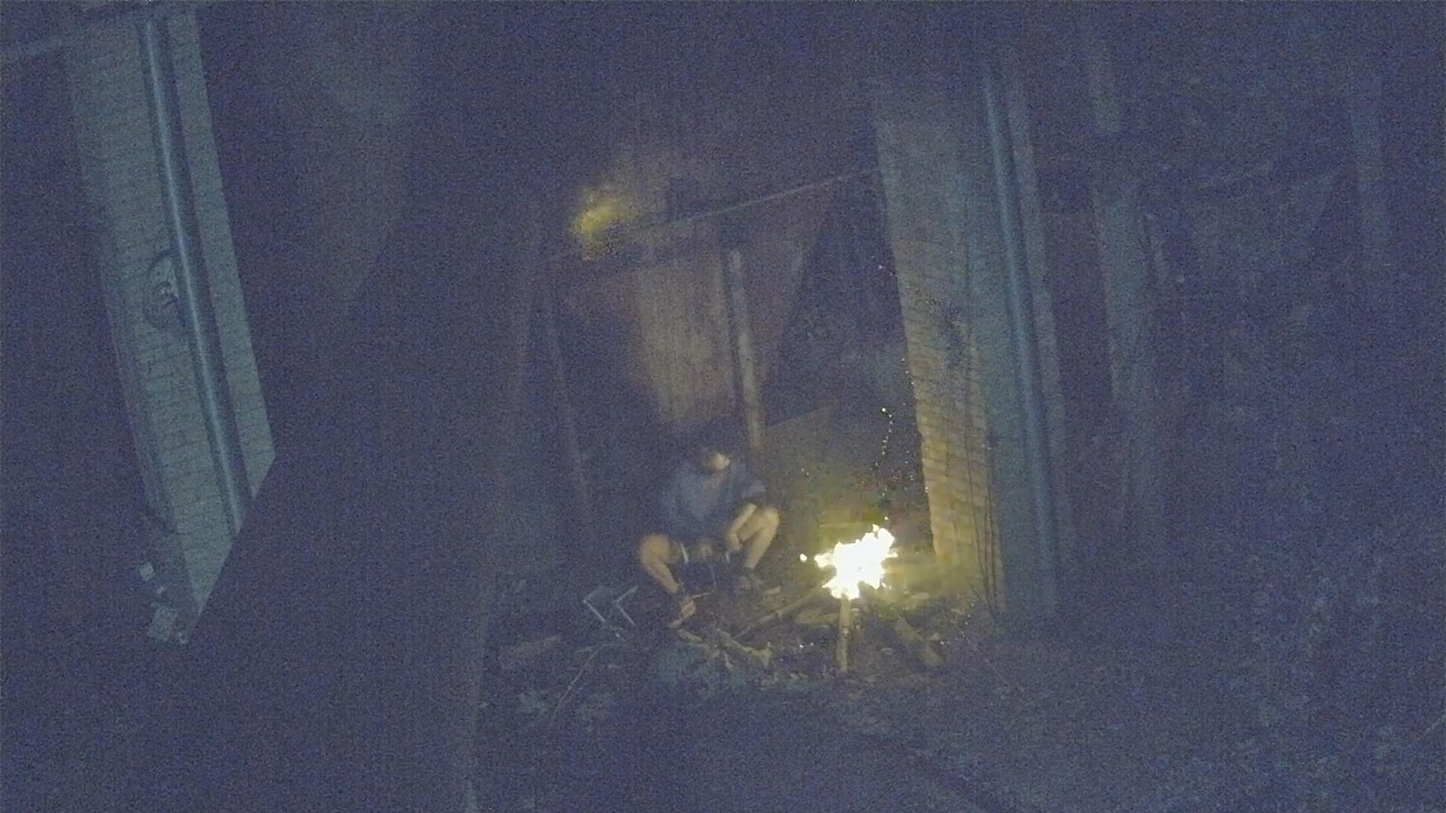fire: (814, 525, 895, 600)
